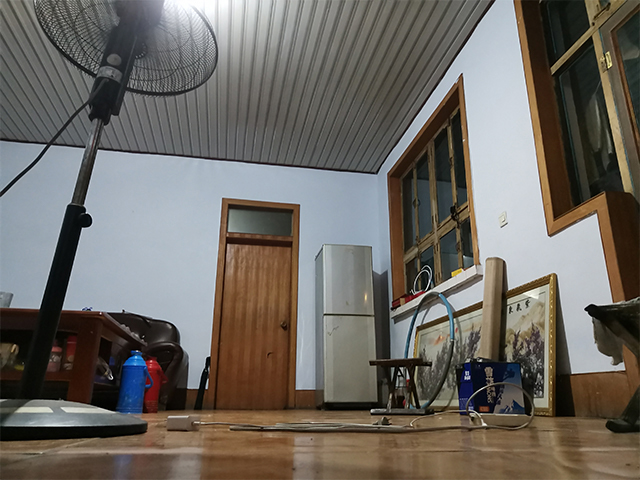stool: (368, 356, 434, 417)
table: (1, 308, 148, 405)
wire: (163, 380, 535, 435)
